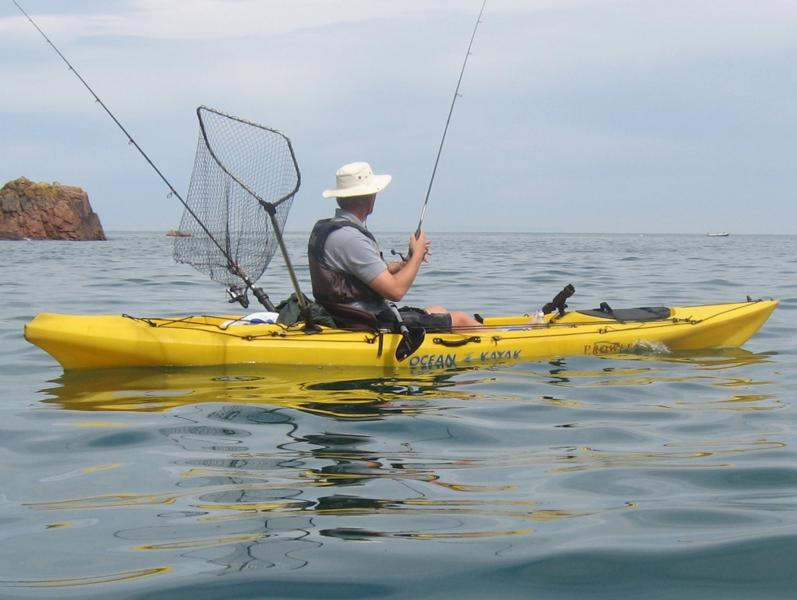person: (310, 159, 482, 331)
